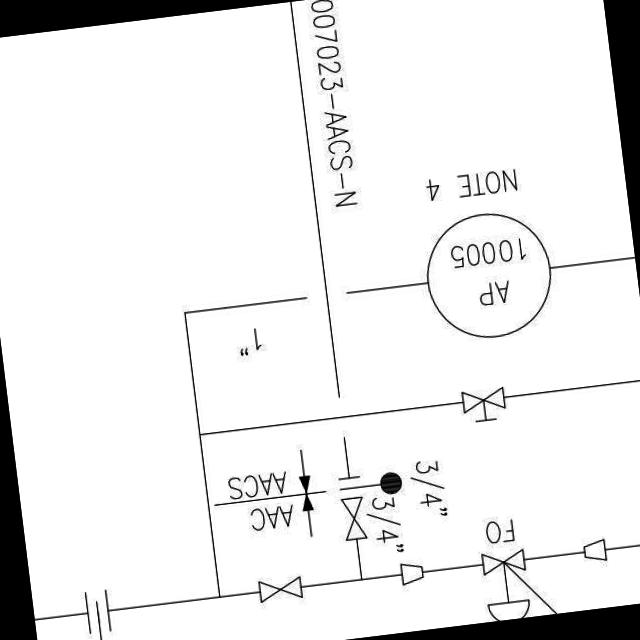FC: (474, 542, 535, 622)
GV: (253, 572, 307, 608), (339, 491, 372, 546)
HV: (456, 384, 508, 428)
SP: (395, 556, 427, 588), (582, 536, 610, 568)
